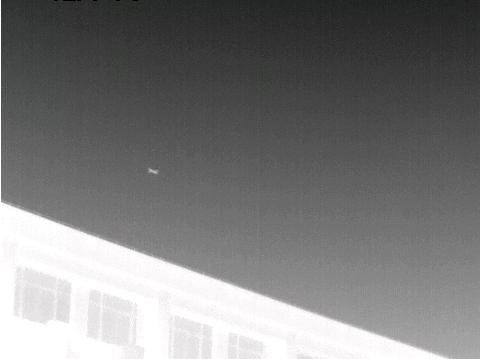dim target: (147, 167, 159, 175)
